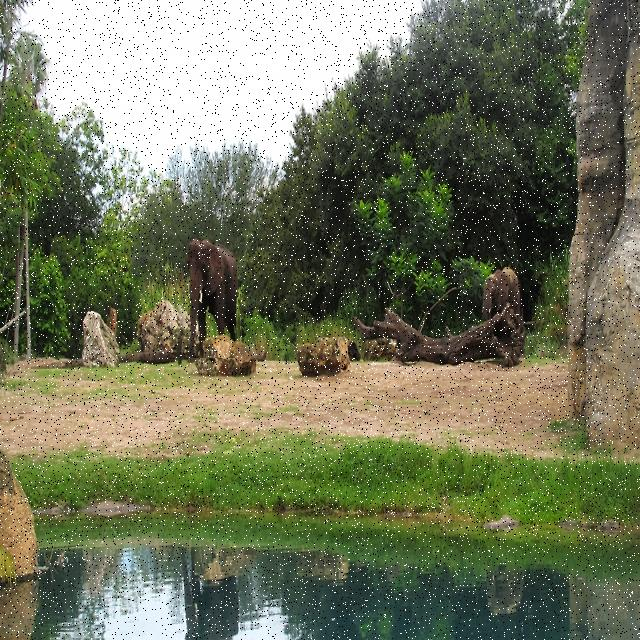elephant: (170, 228, 237, 358), (482, 267, 525, 348)
